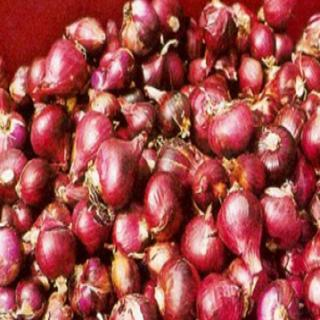Bawang Merah: (1, 1, 320, 320)
